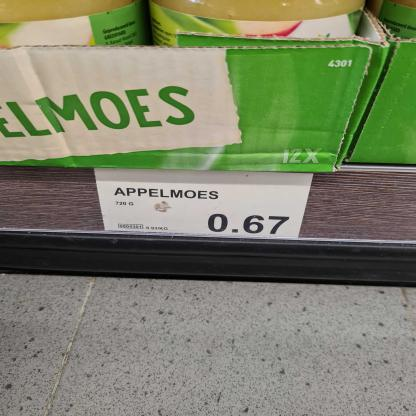prtg: (95, 169, 314, 239)
